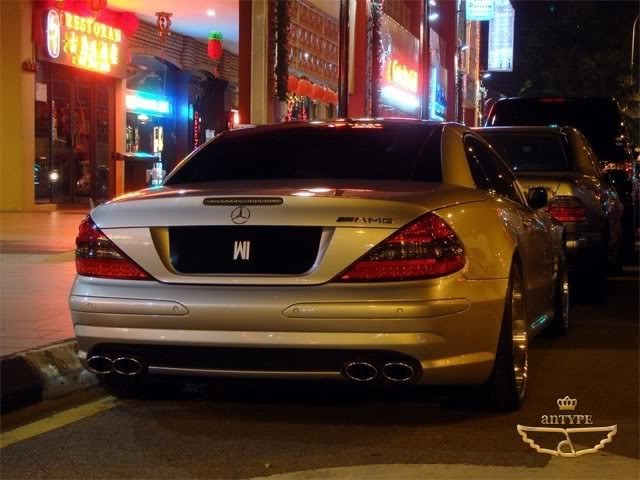license plate: (165, 224, 321, 276)
